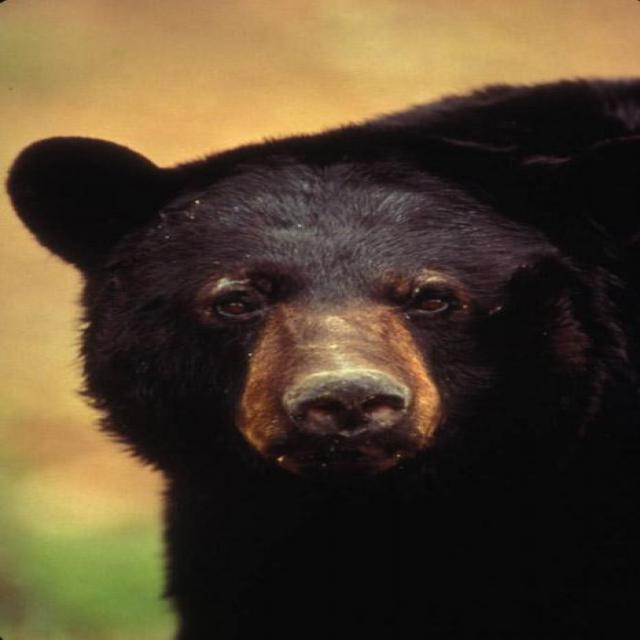Bear: (7, 78, 640, 640)
